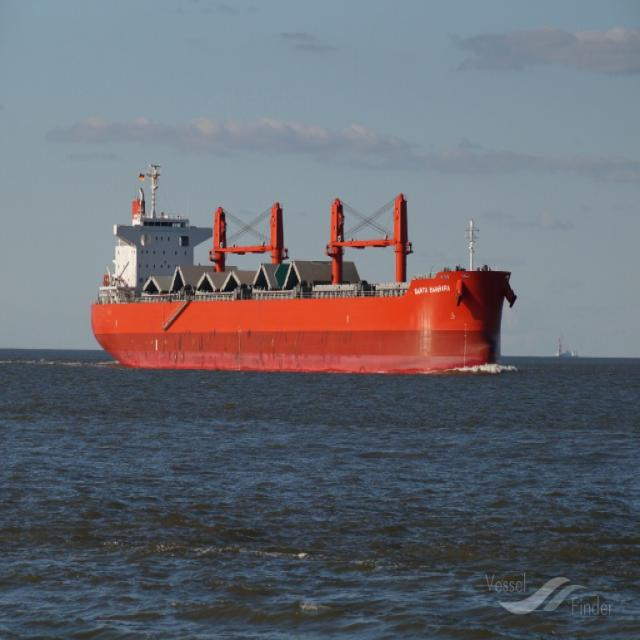OCR: (409, 284, 454, 302)
